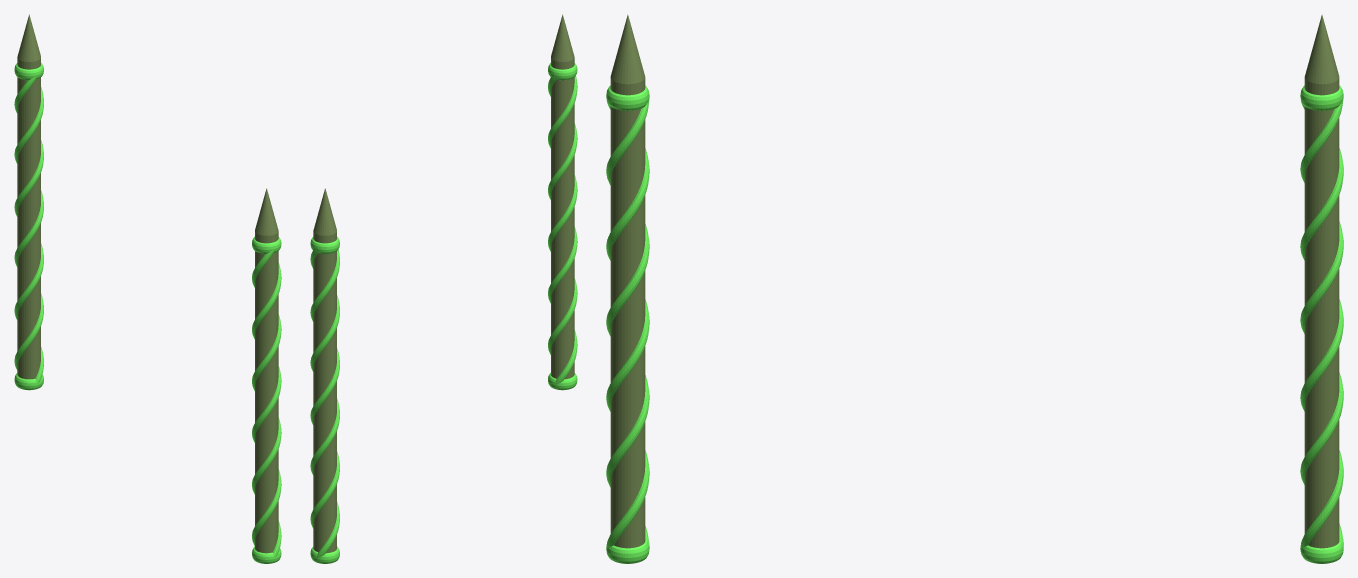
The model's file is ClothGate.obj.
3 renders of one model, left to right at view 1: azimuth 30°, elevation 25°; view 2: azimuth 150°, elevation 25°; view 3: azimuth 270°, elevation 25°, orthographic. The views are drawn at different scales.
Visible parts, largest first — view 1: 円錐; view 2: 円錐; view 3: 円錐.
Part boxes in pixels (x1,y1,x2,y2): 円錐: (14, 14, 281, 563); 円錐: (310, 14, 577, 563); 円錐: (606, 14, 1343, 563).
Bounding box in the file's own units: 0.25 × 3.45 × 4.25.
Materials: 1 (1 with a texture image).
